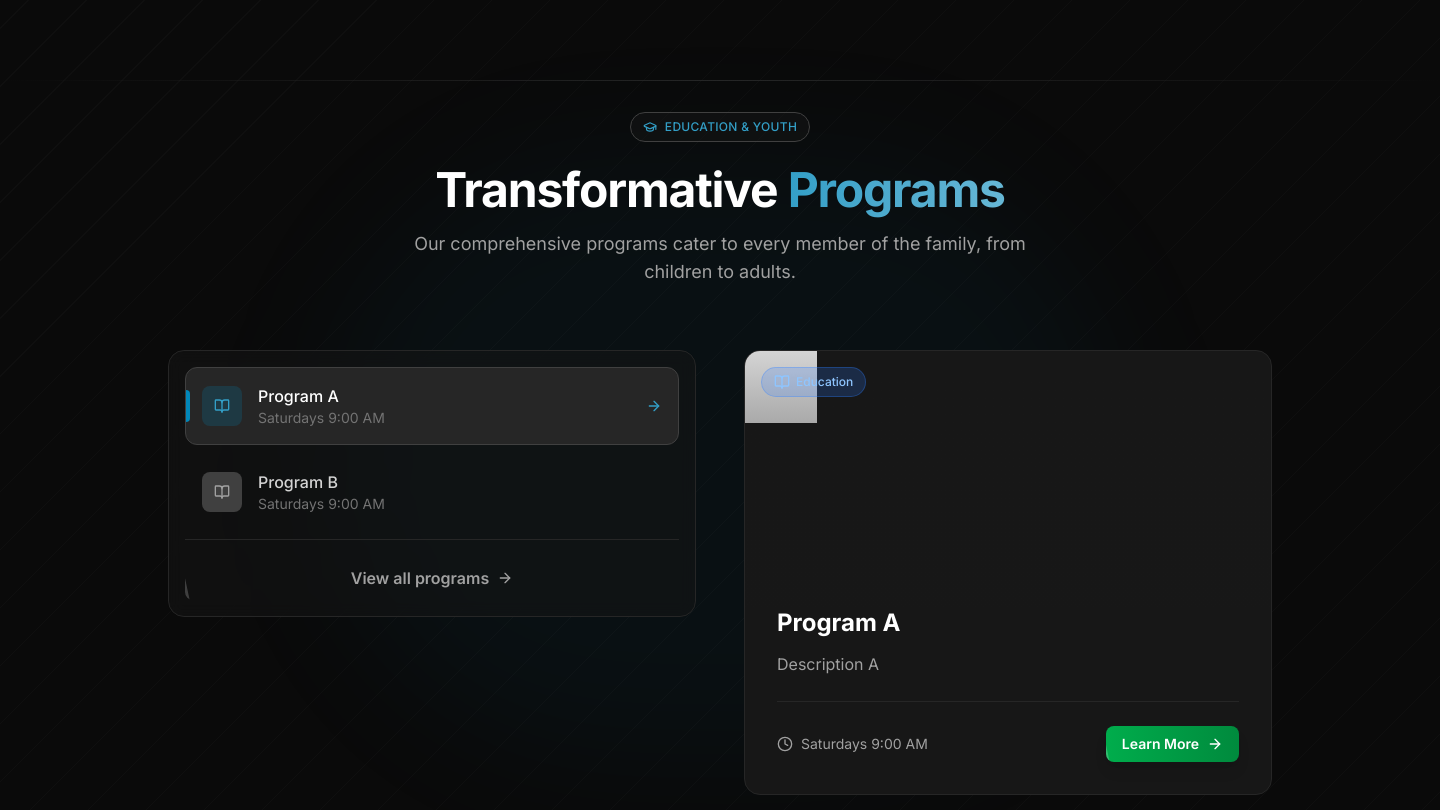
Test: ProgramsSection › switches active program when clicking a different item
This screenshot has width=1440, height=810.
expect the text "Description A" is shown: met, box [777, 654, 879, 674]
Click the button "Program B Saturdays 9:00 AM" at (222, 492), box [185, 453, 679, 531]
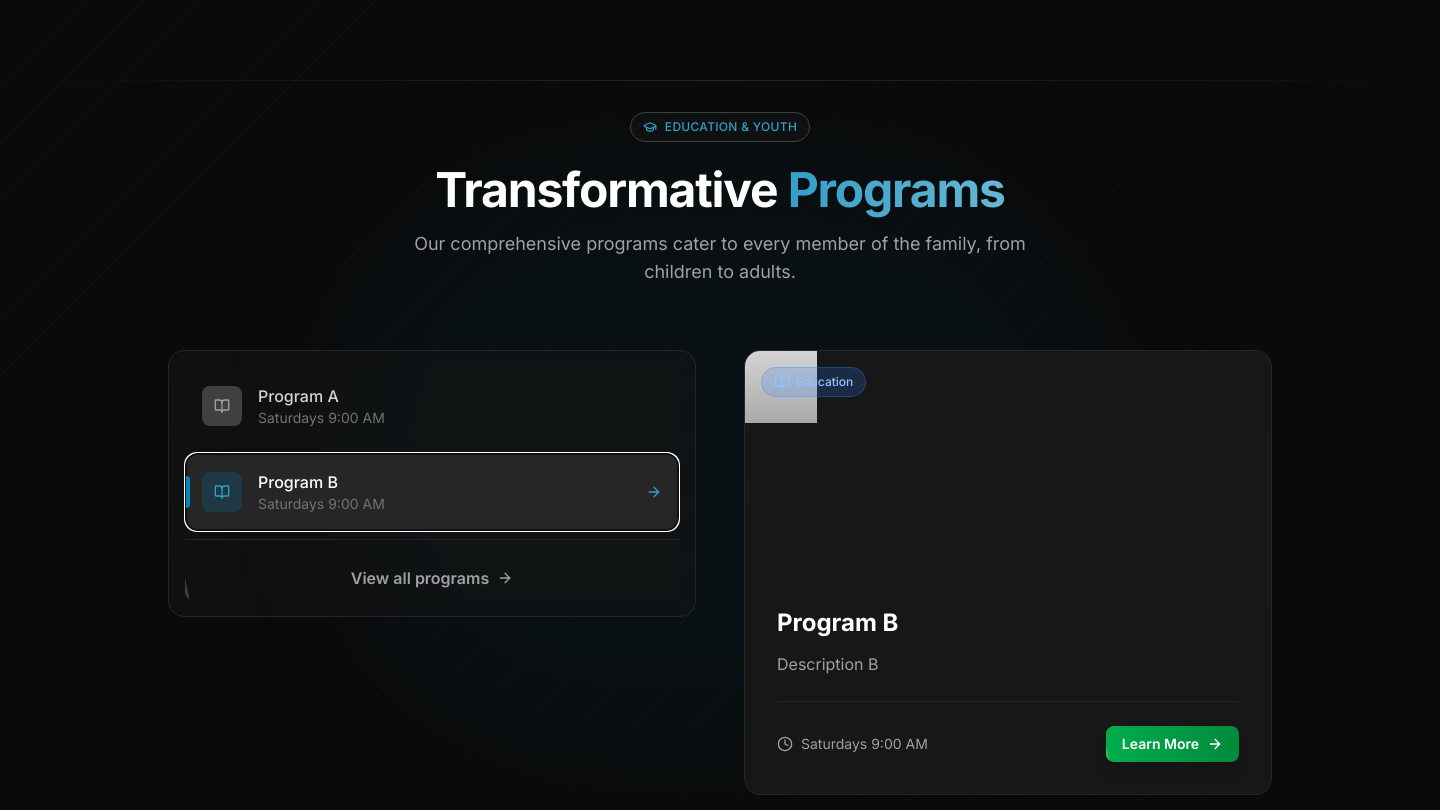
expect the text "Description B" is shown: met, box [777, 654, 878, 674]
